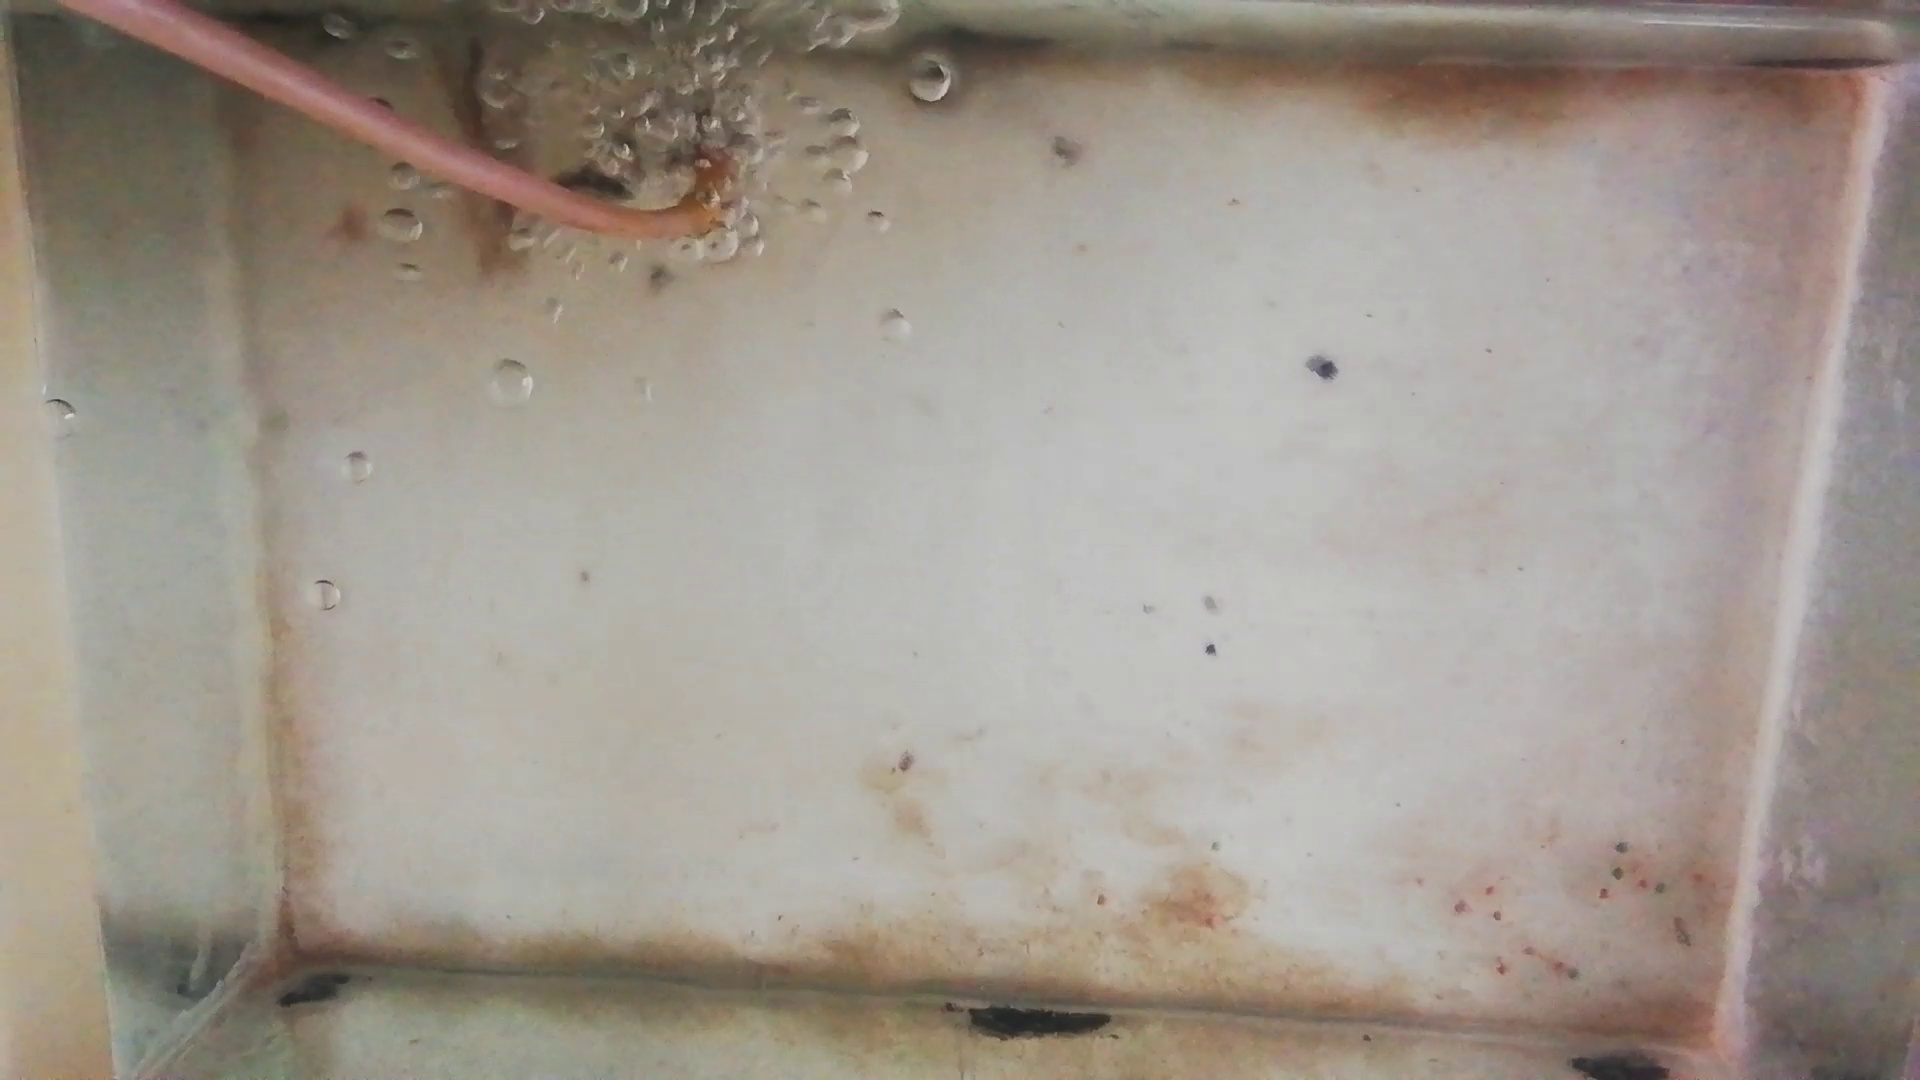fish: (442, 24, 526, 277), (545, 148, 663, 203)
